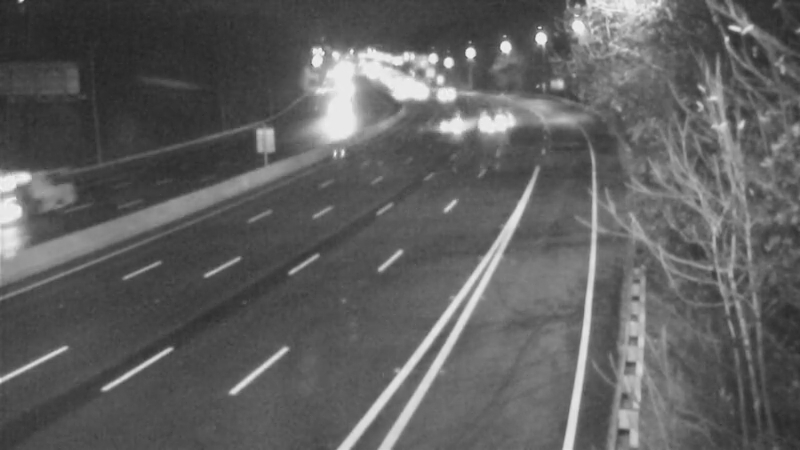vehicle: (1, 168, 68, 248), (415, 70, 465, 120), (468, 97, 518, 147), (421, 100, 471, 150), (313, 103, 363, 153)
